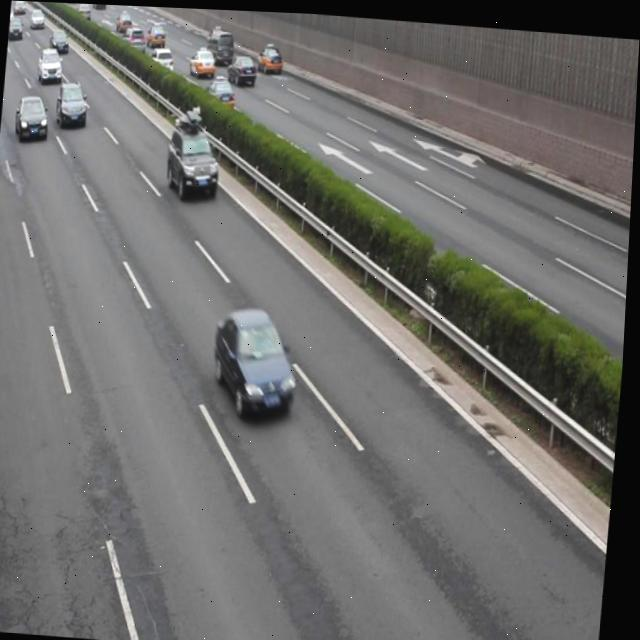car: (213, 302, 303, 418), (165, 106, 224, 198), (16, 92, 51, 144), (56, 78, 91, 129), (203, 71, 237, 107), (226, 49, 259, 85), (188, 46, 217, 78), (256, 42, 284, 73)
